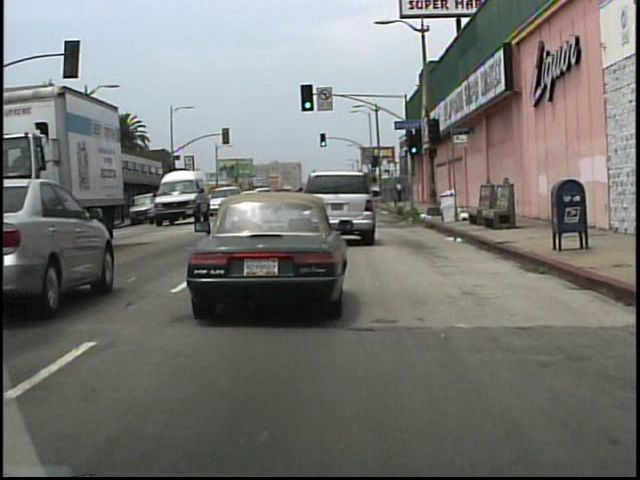person: (396, 181, 406, 205)
